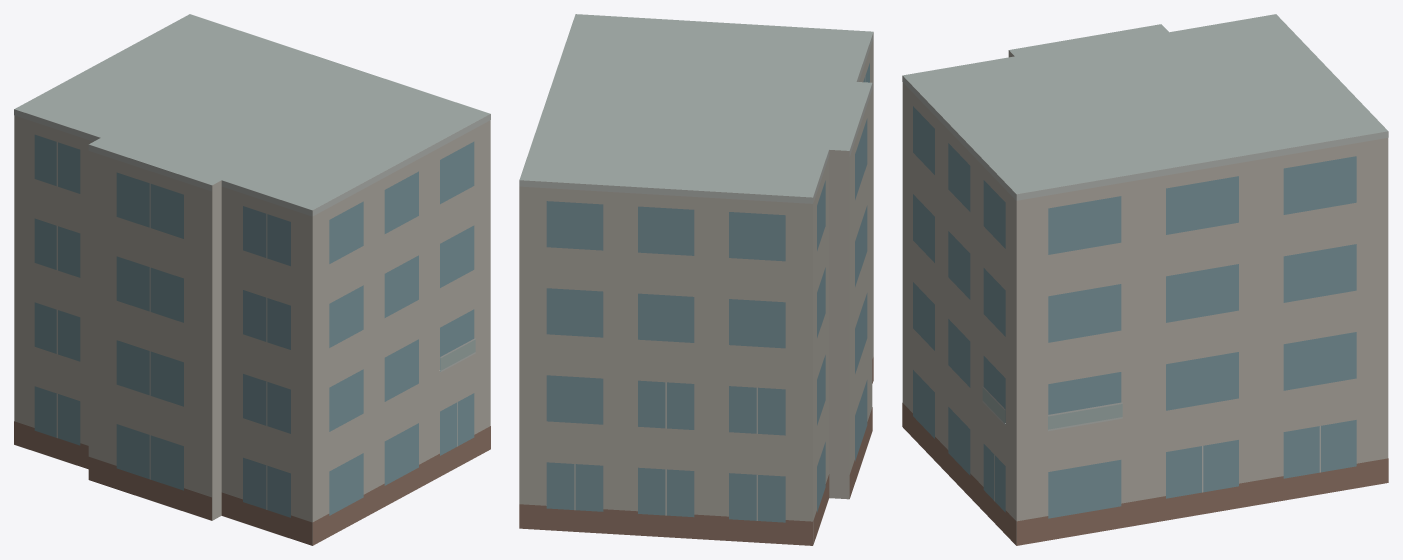
Rendered from survey-upis-32815395.glb.
The picture shows the model from 3 angles, left to right: view 1: azimuth 30°, elevation 25°; view 2: azimuth 150°, elevation 25°; view 3: azimuth 270°, elevation 25°; orthographic projection. The views are drawn at different scales.
Parts seen in each view (by area): view 1: survey-upis-32815395.tmp; view 2: survey-upis-32815395.tmp; view 3: survey-upis-32815395.tmp.
Part boxes in pixels (left/top/right/bottom): survey-upis-32815395.tmp: left=14, top=14, right=490, bottom=545; survey-upis-32815395.tmp: left=519, top=14, right=873, bottom=545; survey-upis-32815395.tmp: left=902, top=14, right=1388, bottom=545.
Size of the model in its own units: 14.59 by 13.25 by 16.61.
